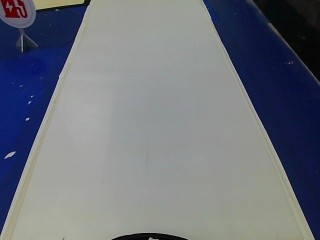battery: (0, 0, 38, 29)
